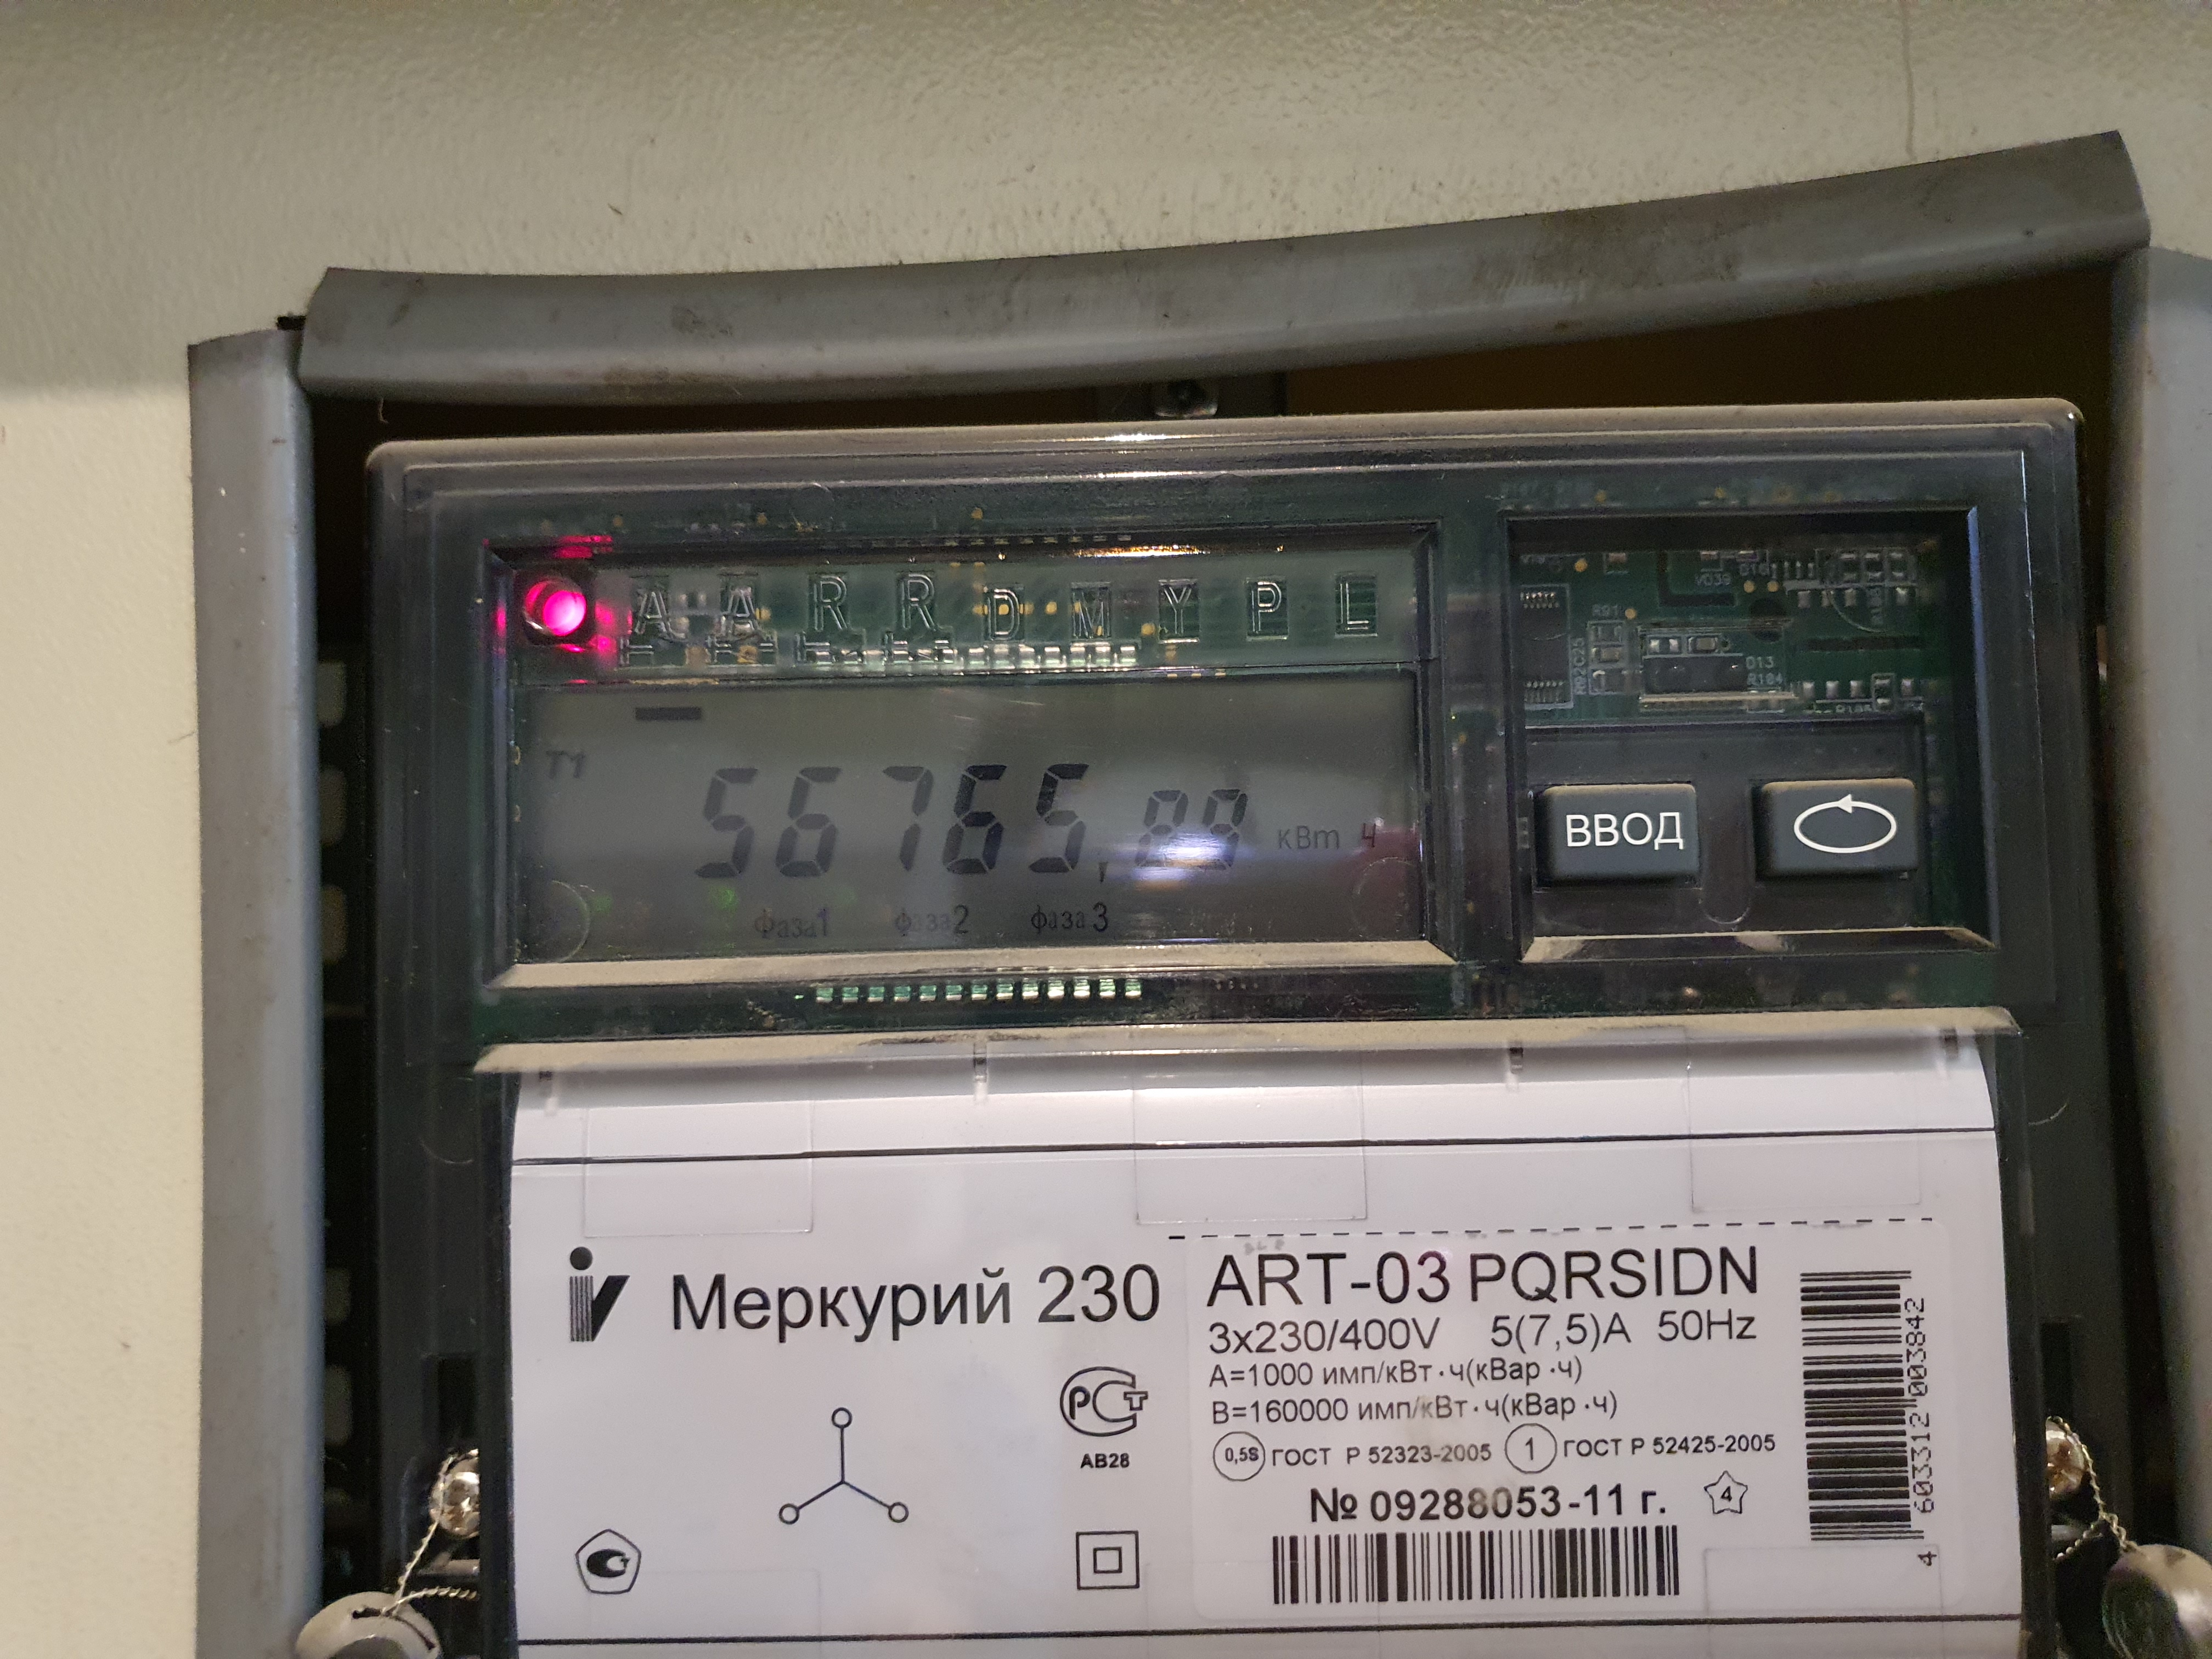screen: (460, 619, 1477, 1025)
